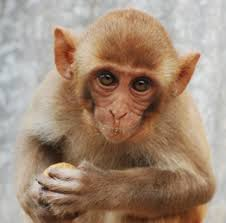monkey: (30, 13, 203, 207)
